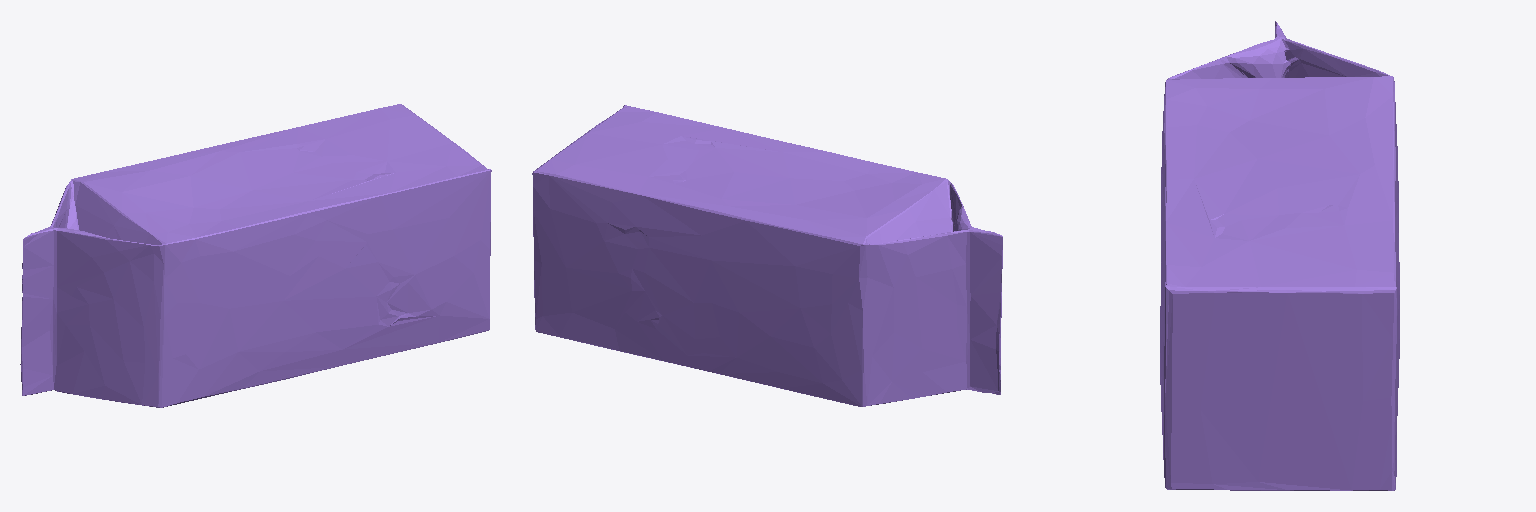
robot.urdf — myfirst:
<?xml version="1.0"?>
 <robot name="myfirst">
   <material name="light_green">
     <color rgba="0 1 0.498 1"/>
   </material>
   <material name="coral">
     <color rgba="1 0.498 0.3137 1"/>
   </material>
   <material name="purple">
     <color rgba="0.68 0.55 0.90 1"/>
   </material>
   <link name="Milk">
     <visual>
       <geometry>
         <!-- <box size="0.16 0.21343700408935547 0.061"/> -->
         <mesh filename="Milk.obj" scale="1 1 1"/>
       </geometry>
       <material name="purple"/>
       <!-- <material name="light_green"/> -->
       <!-- <material name="white">
         <color rgba="1. 1. 1. 1."/>
       </material> -->
       <origin xyz="0 0 0" rpy="0 0 0"/>
     </visual>
     <inertial>
       <mass value="0.5"/>
       <inertia ixx="1.0" ixy="0.0" ixz="0.0" iyy="1.0" iyz="0.0" izz="1.0"/>
     </inertial>
   </link>
   
 </robot>

--- Facts derived from the render (not from the file) ---
3 views of the same robot in one strip: view 1: azimuth 30°, elevation 25°; view 2: azimuth 150°, elevation 25°; view 3: azimuth 270°, elevation 25° (orthographic).
Model myfirst with 1 links and 0 joints (none), rooted at Milk, posed every joint at zero.
Links seen in each view (by area): view 1: Milk; view 2: Milk; view 3: Milk.
Link boxes in pixels (bbox=[...]): Milk: bbox=[20, 104, 491, 407]; Milk: bbox=[532, 105, 1002, 406]; Milk: bbox=[1160, 21, 1399, 490].
Size in the robot's own frame: 0.1903 by 0.0732 by 0.0722 metres.
Meshes: 1 distinct files referenced, 1 mesh visuals loaded (1 OBJ).
